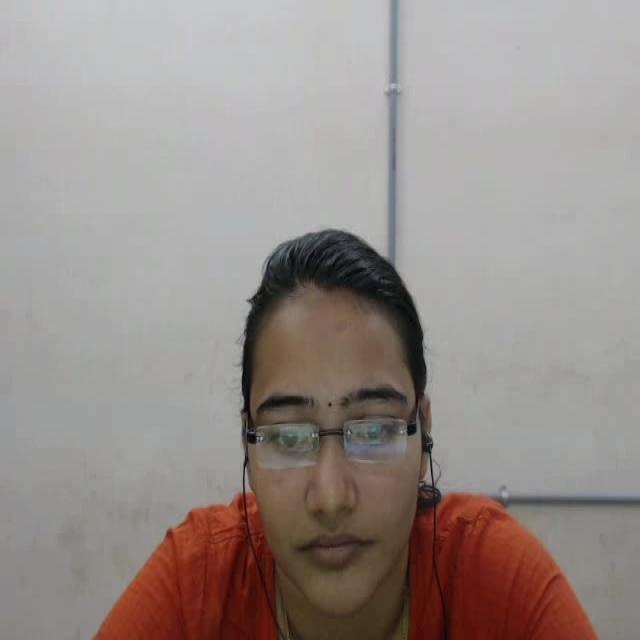Engaged: (204, 193, 473, 640)
